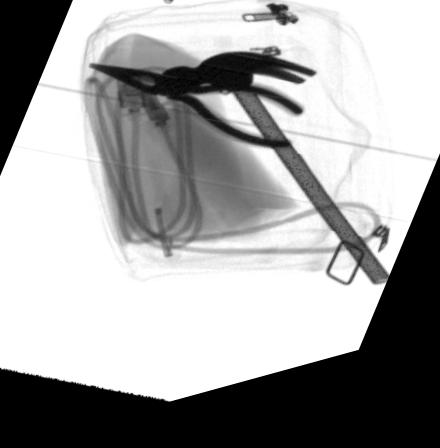Hammer: (161, 62, 389, 306)
Pliers: (88, 67, 307, 165)
